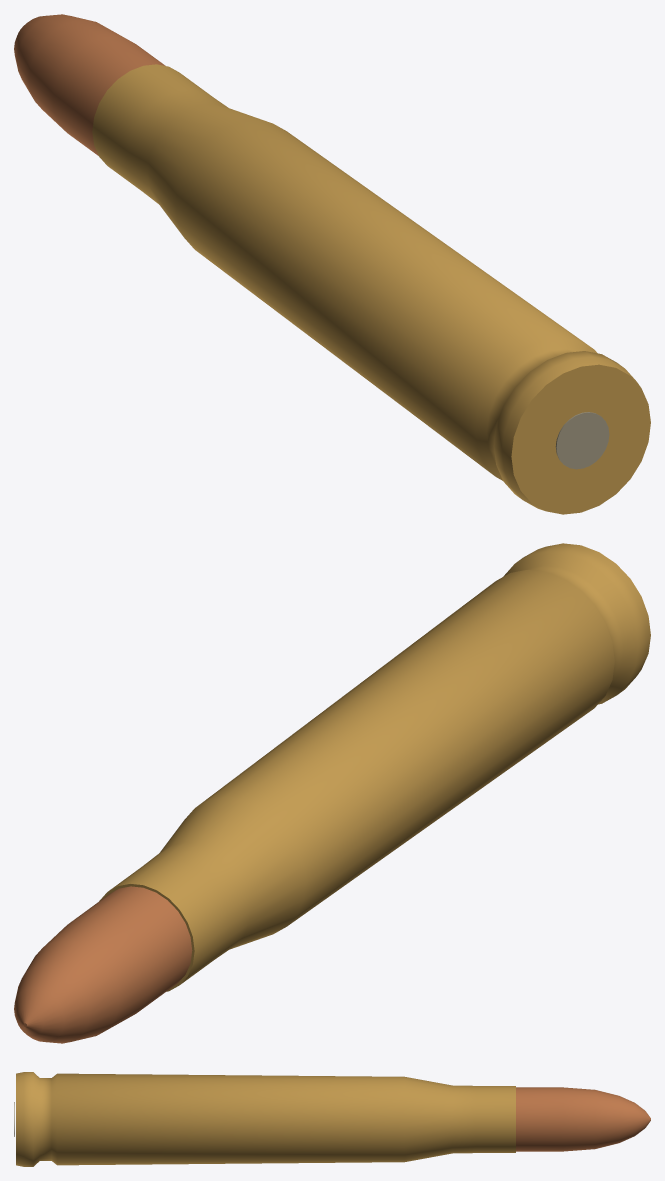
Rendered from Cartridge792.glb.
3 views of the same model, one above another, from view 1: azimuth 30°, elevation 25°; view 2: azimuth 150°, elevation 25°; view 3: azimuth 270°, elevation 25° (orthographic). The views are drawn at different scales.
Visible parts, largest first — view 1: CaseBrass, ProjectileCopper, Primer; view 2: CaseBrass, ProjectileCopper; view 3: CaseBrass, ProjectileCopper.
Part boxes in pixels (x1,y1,x2,y2): CaseBrass: [92, 64, 650, 514]; ProjectileCopper: [14, 14, 165, 155]; Primer: [555, 412, 609, 469]; CaseBrass: [99, 543, 650, 991]; ProjectileCopper: [14, 886, 192, 1043]; CaseBrass: [16, 1072, 515, 1166]; ProjectileCopper: [516, 1087, 650, 1151].
Size of the model in its own units: 0.012 by 0.012 by 0.0802.
